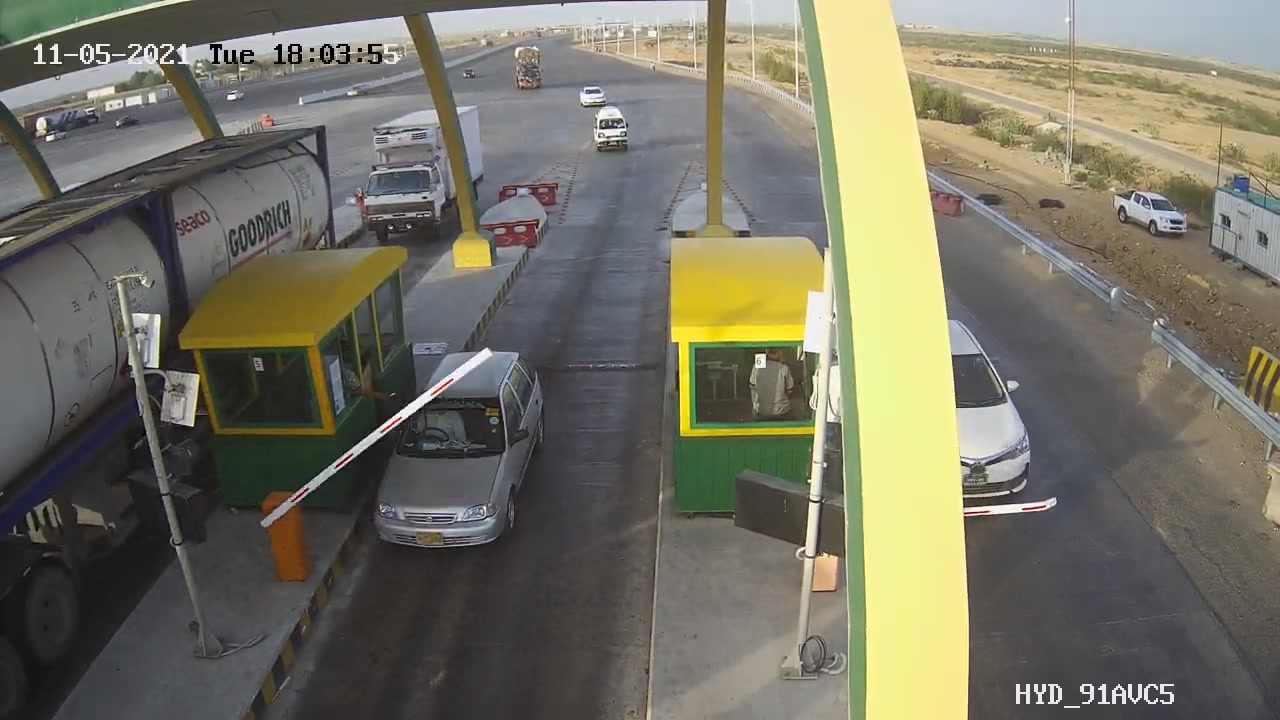F1: (359, 334, 565, 574)
